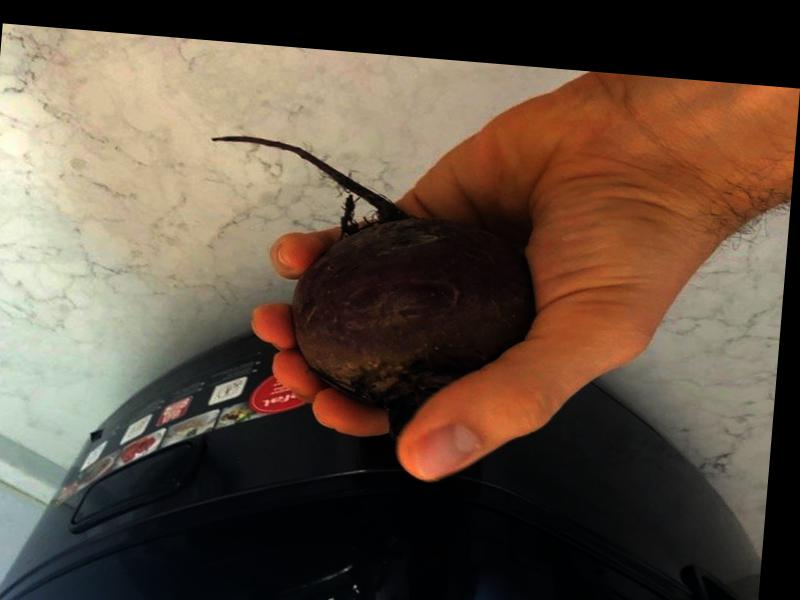Beet: (189, 134, 545, 446)
